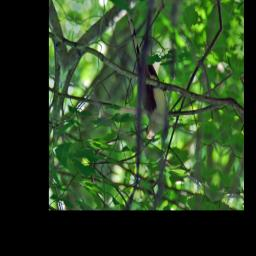Cuckoo: (101, 8, 186, 146)
